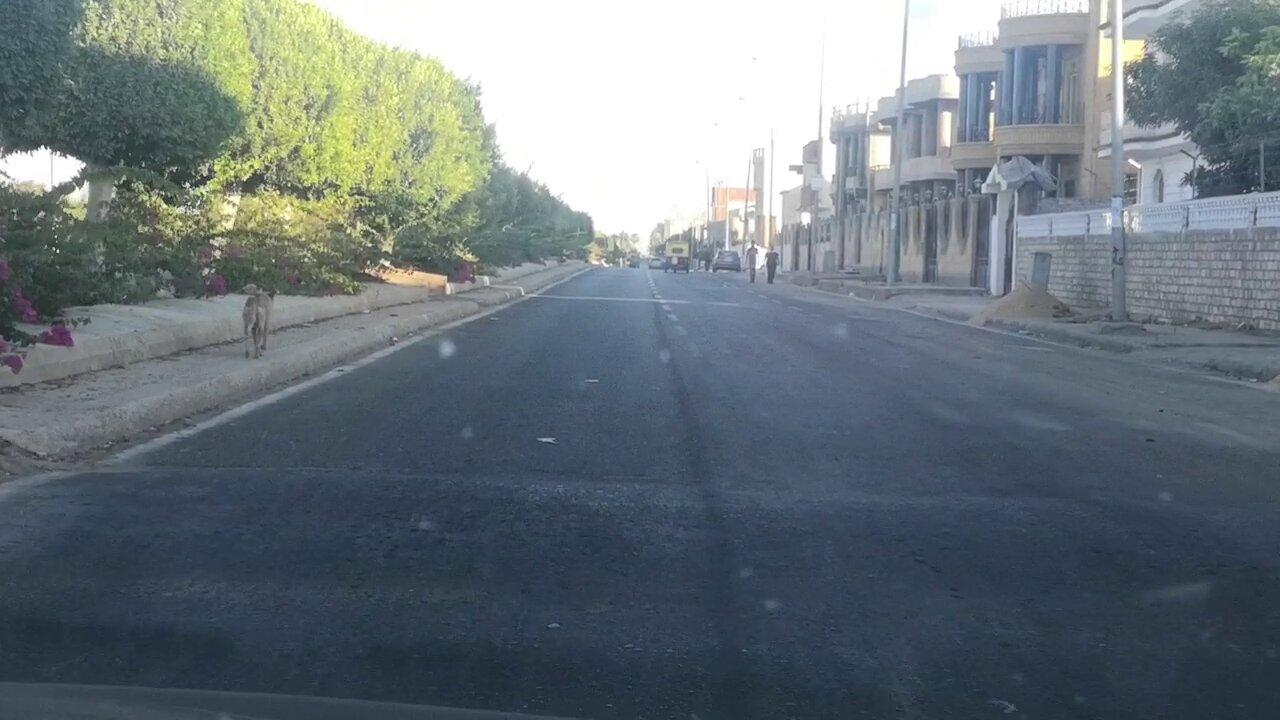Bump: (98, 450, 1273, 720)
